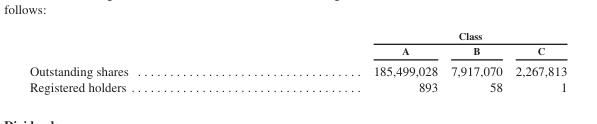table: (28, 29, 566, 93)
table column: (28, 29, 250, 93), (250, 29, 443, 93), (443, 29, 508, 93), (508, 29, 566, 93)
table column header: (28, 29, 566, 59)
table row: (28, 59, 566, 78), (28, 42, 566, 59), (28, 78, 566, 93), (28, 29, 566, 42)
table spanning cell: (250, 29, 566, 42)
